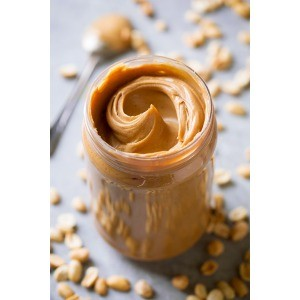peanut butter_brain food: (91, 67, 212, 251)
